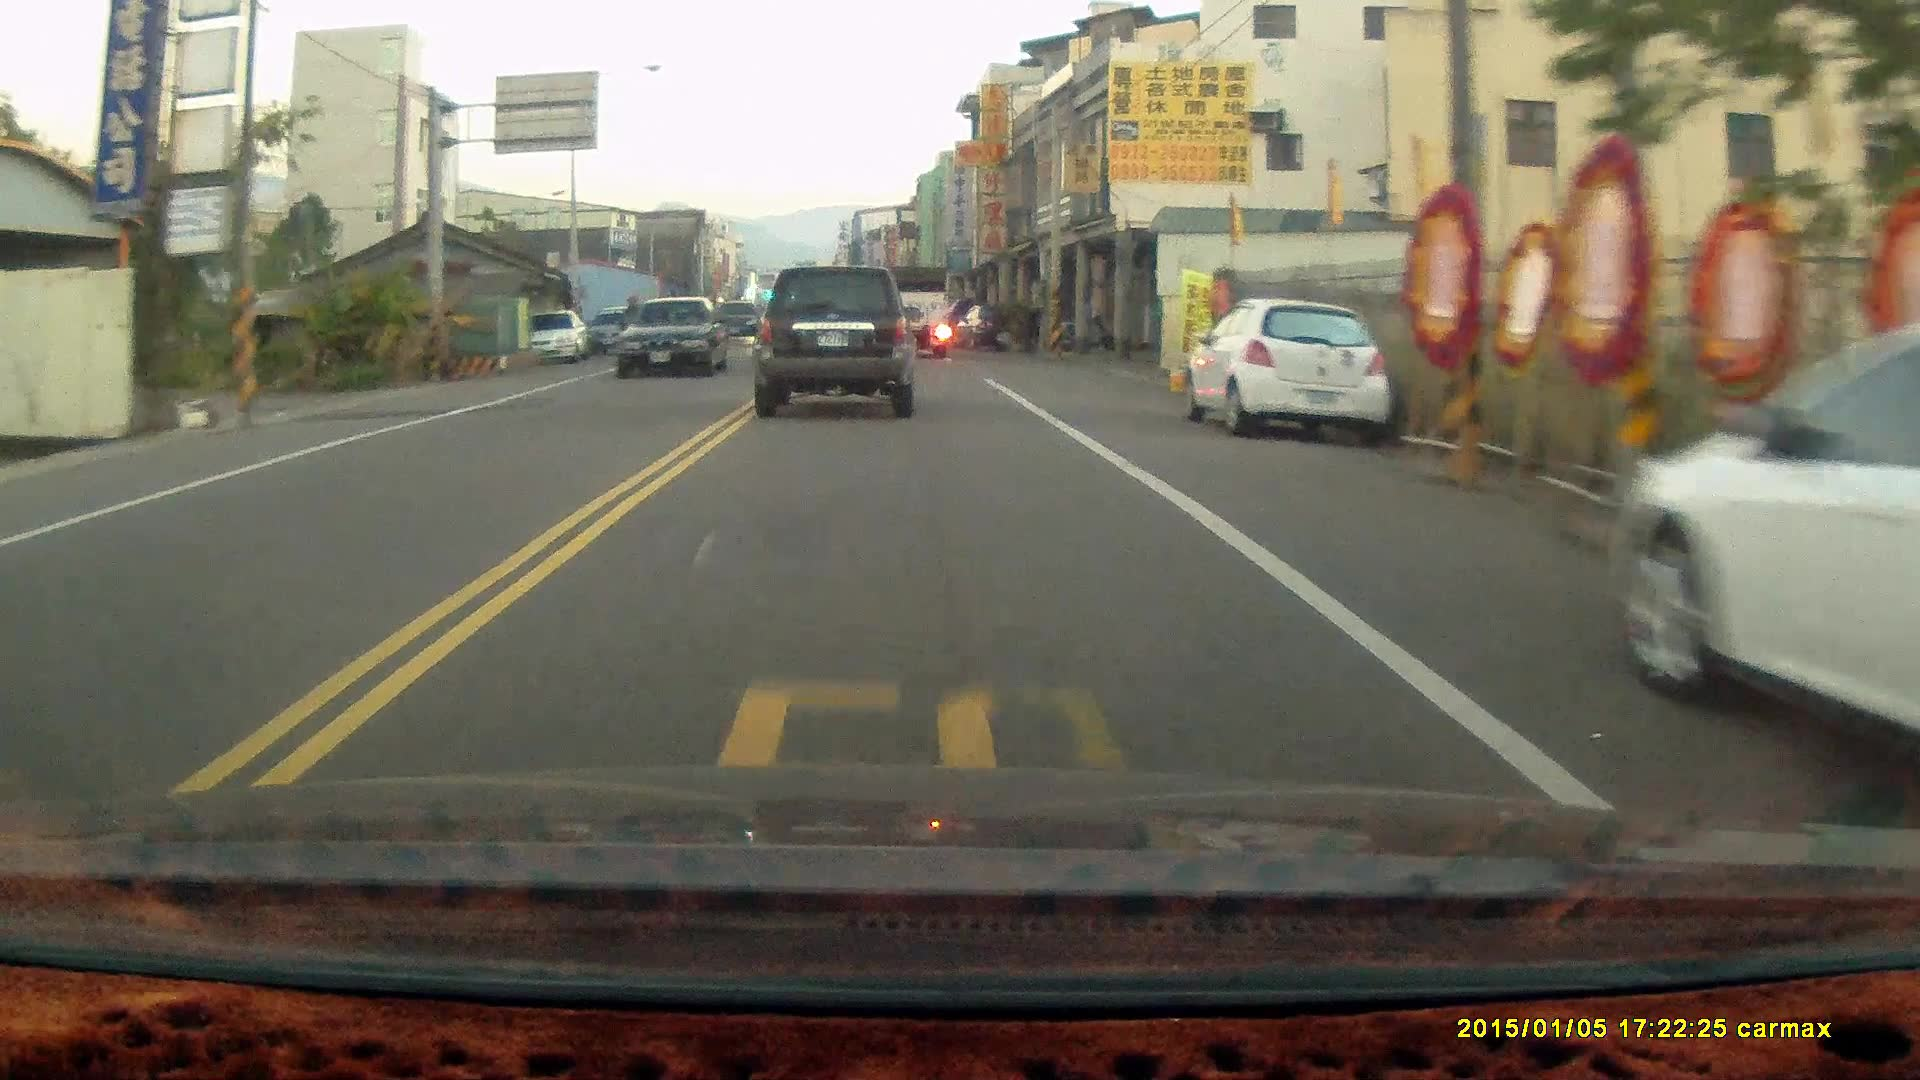vehicle: (1609, 322, 1920, 837), (1187, 298, 1387, 448), (748, 266, 918, 421), (620, 291, 735, 378), (880, 262, 956, 357), (512, 309, 591, 365), (582, 309, 651, 356)
